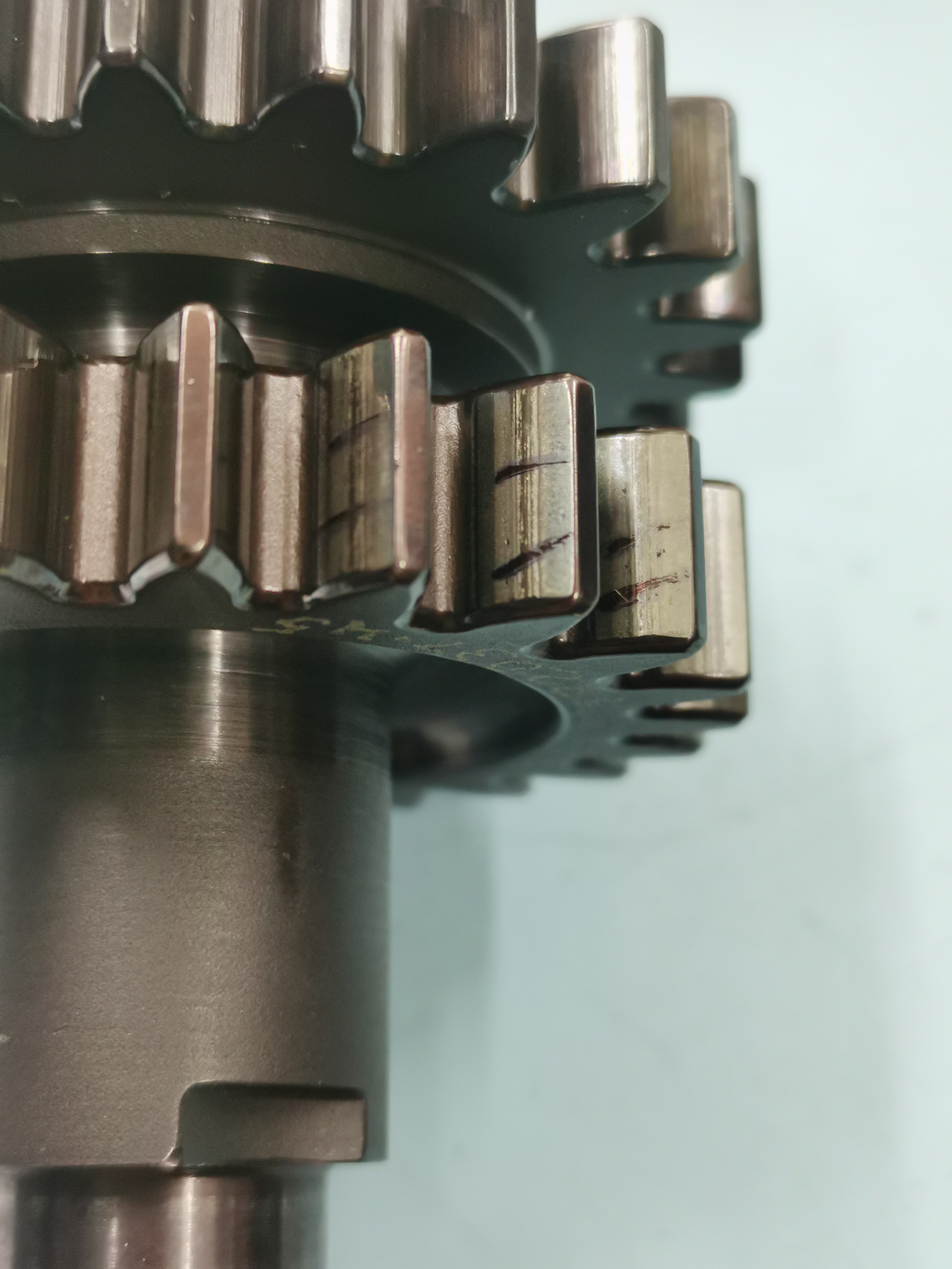Abrasion: (466, 374, 582, 613), (307, 327, 404, 591), (0, 330, 91, 575), (602, 426, 696, 654), (619, 95, 735, 273), (540, 10, 649, 199), (203, 308, 262, 594), (124, 311, 182, 582), (404, 0, 521, 126)
